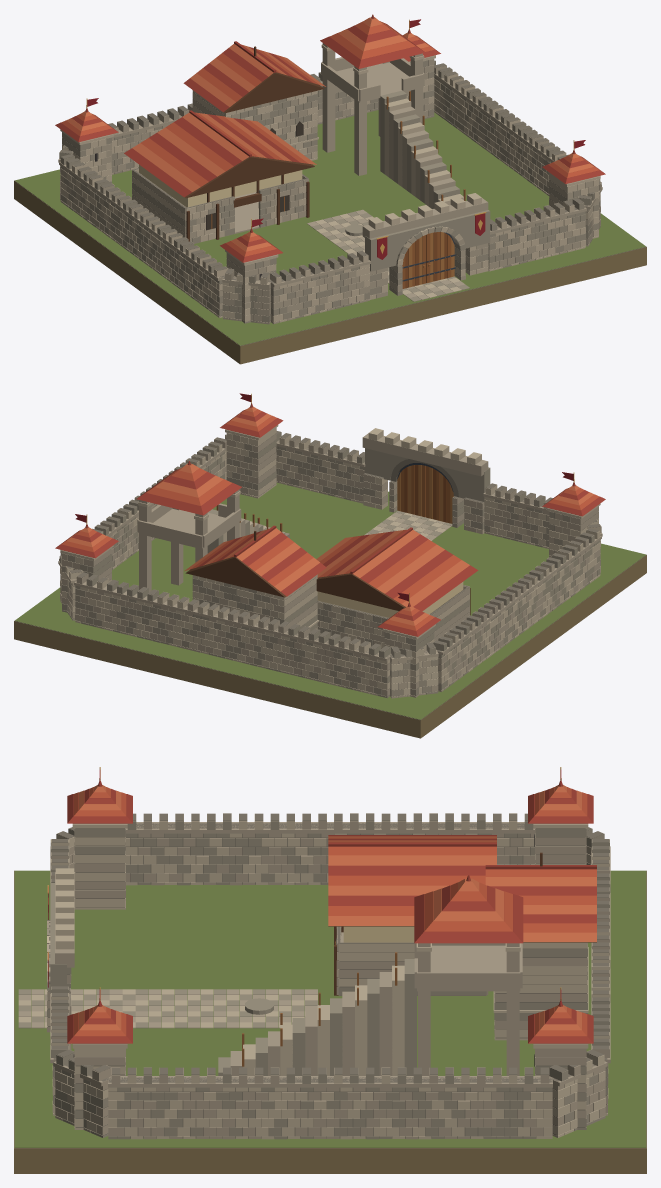
Rendered from stockade-nivel-3.glb.
The picture shows the model from 3 angles, top to bottom: view 1: azimuth 30°, elevation 25°; view 2: azimuth 150°, elevation 25°; view 3: azimuth 270°, elevation 25°; orthographic projection. The views are drawn at different scales.
Parts seen in each view (by area): view 1: stone_3_b1a38d, stone_3_738449, stone_3_a09682, stone_3_c3b49a, stone_3_8d7955, stone_3_9e4235, stone_3_c66c49, stone_3_82796a, stone_3_b9583c, stone_3_63422c, stone_3_dcc89b, stone_3_992b31 (+3 smaller); view 2: stone_3_b1a38d, stone_3_738449, stone_3_c3b49a, stone_3_a09682, stone_3_8d7955, stone_3_9e4235, stone_3_82796a, stone_3_c66c49, stone_3_b9583c, stone_3_63422c, stone_3_dcc89b, right_3_9c6237.001 (+3 smaller); view 3: stone_3_738449, stone_3_b1a38d, stone_3_c3b49a, stone_3_a09682, stone_3_82796a, stone_3_8d7955, stone_3_9e4235, stone_3_b9583c, stone_3_c66c49, stone_3_dcc89b.
Boxes of the visible parts, x1,y1,x2,y2 form: stone_3_b1a38d: [58, 43, 602, 324]; stone_3_738449: [14, 110, 645, 345]; stone_3_a09682: [59, 60, 600, 323]; stone_3_c3b49a: [60, 44, 600, 322]; stone_3_8d7955: [14, 181, 646, 364]; stone_3_9e4235: [55, 14, 605, 262]; stone_3_c66c49: [66, 17, 594, 251]; stone_3_82796a: [15, 60, 646, 345]; stone_3_b9583c: [61, 21, 599, 256]; stone_3_63422c: [185, 72, 324, 241]; stone_3_dcc89b: [139, 164, 302, 207]; stone_3_992b31: [87, 19, 585, 259]; stone_3_b1a38d: [58, 429, 602, 698]; stone_3_738449: [15, 482, 645, 719]; stone_3_c3b49a: [60, 425, 600, 695]; stone_3_a09682: [59, 432, 600, 698]; stone_3_8d7955: [14, 555, 646, 738]; stone_3_9e4235: [55, 403, 605, 636]; stone_3_82796a: [15, 431, 645, 720]; stone_3_c66c49: [67, 406, 594, 625]; stone_3_b9583c: [61, 409, 599, 630]; stone_3_63422c: [185, 556, 470, 615]; stone_3_dcc89b: [317, 582, 463, 617]; right_3_9c6237.001: [401, 465, 425, 517]; stone_3_738449: [14, 870, 646, 1147]; stone_3_b1a38d: [18, 813, 610, 1139]; stone_3_c3b49a: [18, 813, 610, 1139]; stone_3_a09682: [18, 813, 610, 1139]; stone_3_82796a: [14, 813, 646, 1148]; stone_3_8d7955: [14, 870, 646, 1173]; stone_3_9e4235: [67, 781, 596, 1043]; stone_3_b9583c: [73, 787, 596, 1036]; stone_3_c66c49: [79, 785, 596, 1030]; stone_3_dcc89b: [343, 926, 414, 942].
Bounding box in the file's own units: 32.8 × 12.24 × 31.6.
